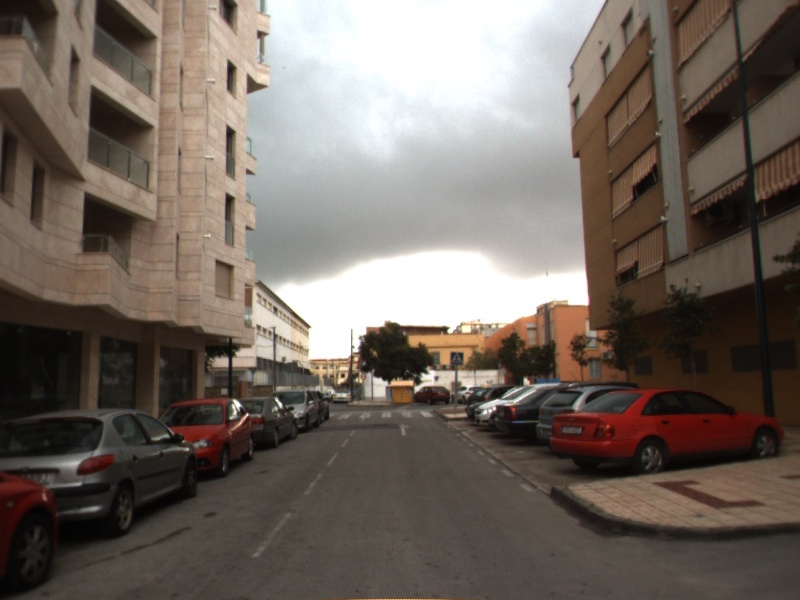STRAIGHT: (394, 421, 415, 438)
